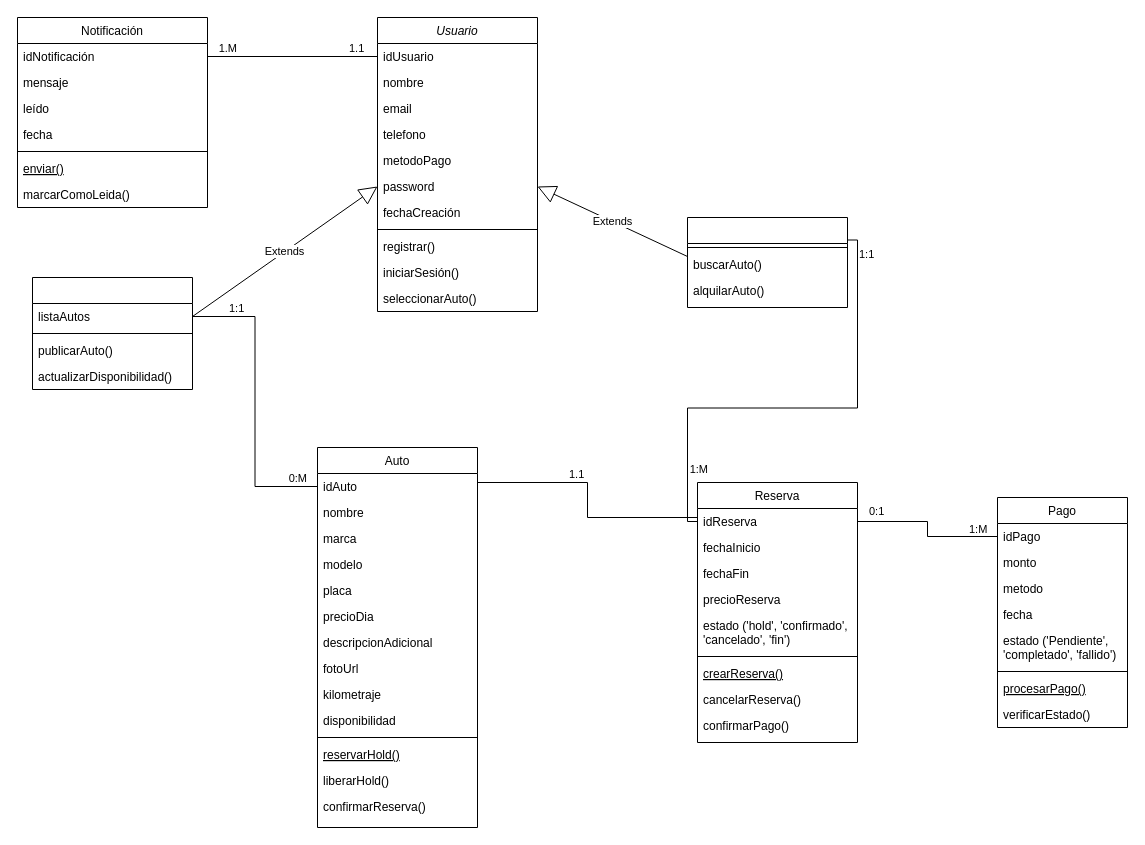
This 1145x845 diagram has some shape labels left out. Each missing label, with the box of its shape:
Cliente: (686, 216, 848, 308)
Dueño: (32, 276, 192, 390)
